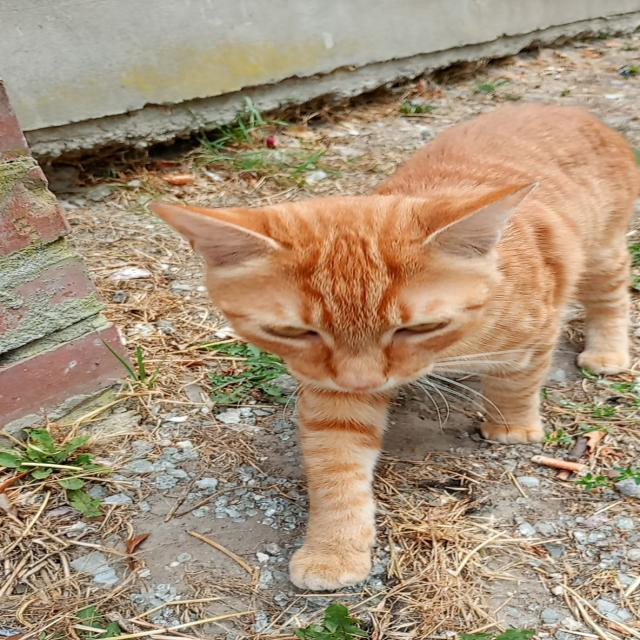sarman: (150, 104, 639, 590)
